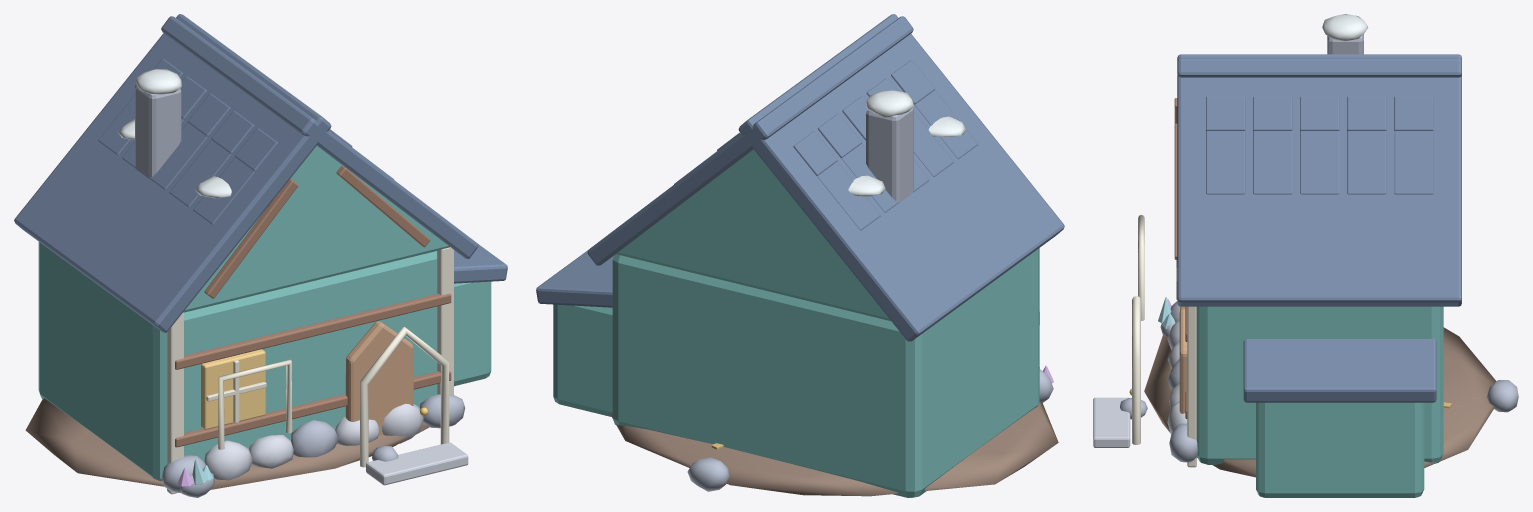
The model's file is northern_house_aqua.glb.
3 views of the same model, side by side, from view 1: azimuth 30°, elevation 25°; view 2: azimuth 150°, elevation 25°; view 3: azimuth 270°, elevation 25° (orthographic). The views are drawn at different scales.
Parts seen in each view (by area): view 1: northern_house_aqua.001; view 2: northern_house_aqua.001; view 3: northern_house_aqua.001.
Boxes of the visible parts, x1,y1,x2,y2 form: northern_house_aqua.001: (14,14,507,497); northern_house_aqua.001: (536,14,1064,497); northern_house_aqua.001: (1093,14,1518,497).
Bounding box in the file's own units: 13.08 × 10.35 × 11.51.
